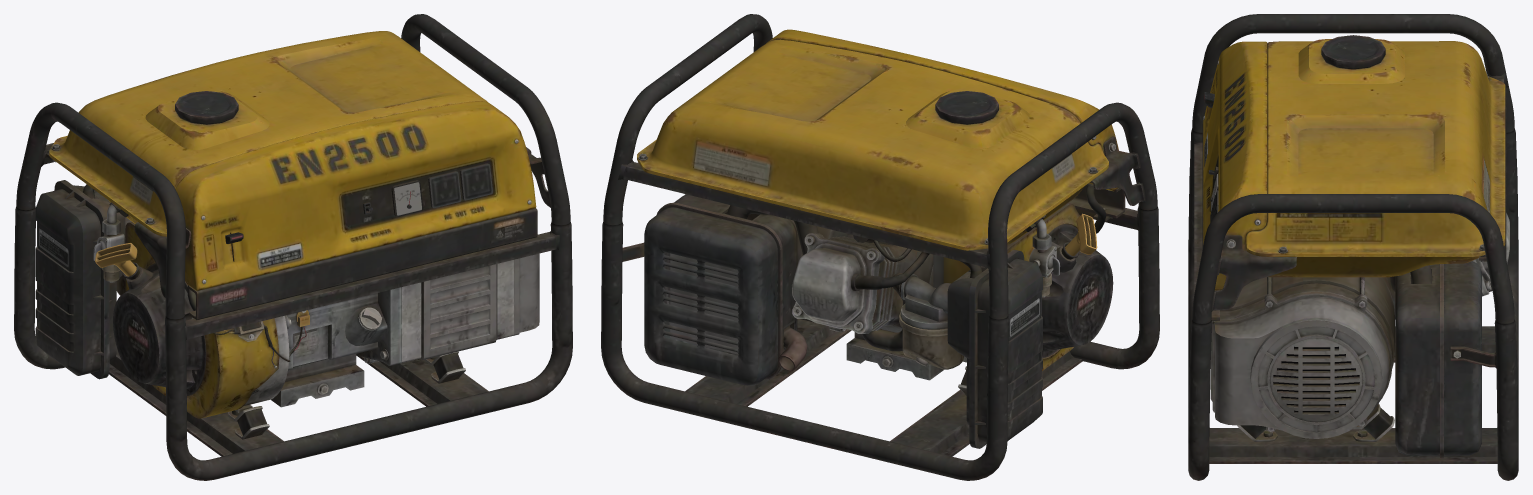
File: portable_generator.gltf
The picture shows the model from 3 angles, left to right: view 1: azimuth 30°, elevation 25°; view 2: azimuth 150°, elevation 25°; view 3: azimuth 270°, elevation 25°; orthographic projection.
Visible parts, largest first — view 1: portable_generator; view 2: portable_generator; view 3: portable_generator.
Part boxes in pixels (x1,y1,x2,y2): portable_generator: [14, 14, 572, 480]; portable_generator: [601, 14, 1159, 480]; portable_generator: [1188, 14, 1518, 480].
Bounding box in the file's own units: 0.8183 × 0.5769 × 0.564.
Materials: 2 (2 with a texture image).
